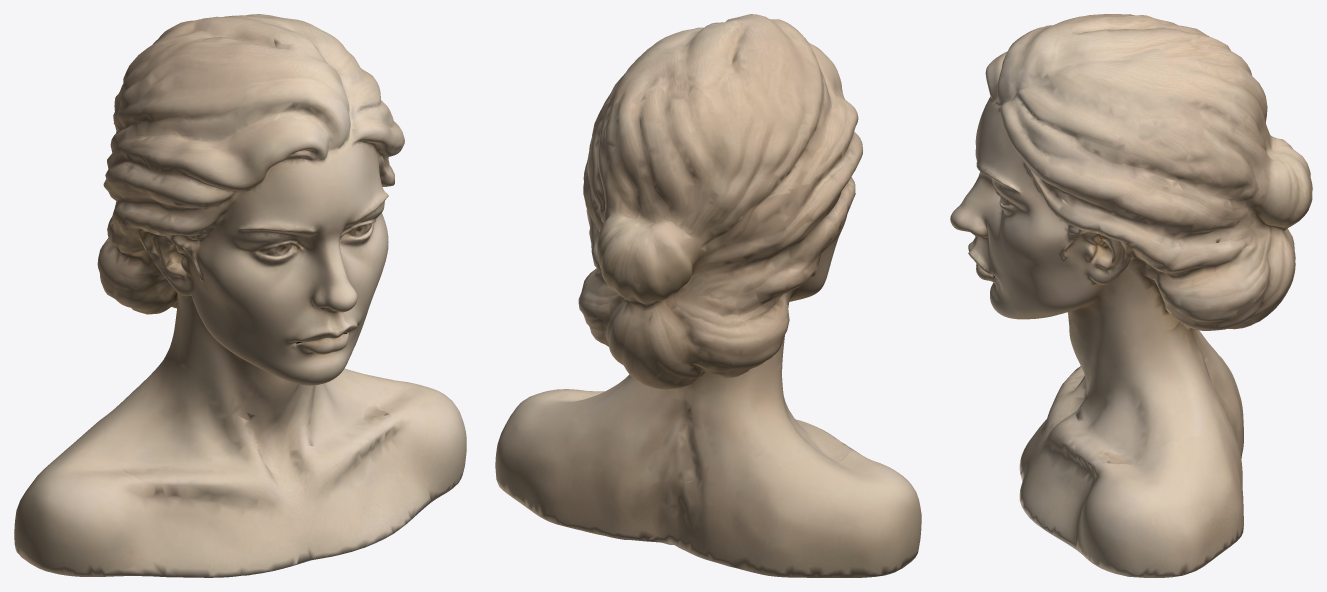
The model's file is female.glb.
The picture shows the model from 3 angles, left to right: view 1: azimuth 30°, elevation 25°; view 2: azimuth 150°, elevation 25°; view 3: azimuth 270°, elevation 25°; orthographic projection. The views are drawn at different scales.
Parts seen in each view (by area): view 1: Head; view 2: Head; view 3: Head.
Part boxes in pixels (x1=…): Head: x1=14, y1=14, x2=466, y2=577; Head: x1=495, y1=14, x2=921, y2=577; Head: x1=950, y1=14, x2=1312, y2=577.
Bounding box in the file's own units: 1.45 × 1.59 × 1.15.
Materials: 1 (1 with a texture image).
